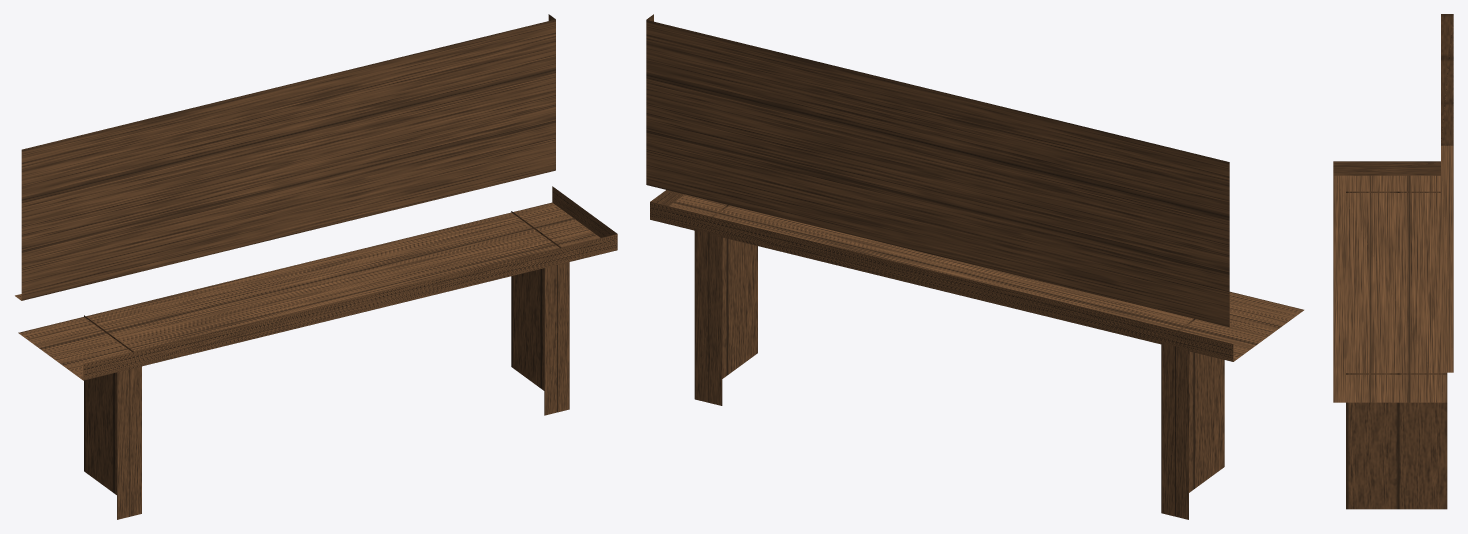
Rendered from prop_haven_bench_a_lod2.glb.
3 renders of one model, left to right at view 1: azimuth 30°, elevation 25°; view 2: azimuth 150°, elevation 25°; view 3: azimuth 270°, elevation 25°, orthographic. The views are drawn at different scales.
Parts seen in each view (by area): view 1: prop_haven_bench_a_lod2; view 2: prop_haven_bench_a_lod2; view 3: prop_haven_bench_a_lod2.
Boxes of the visible parts, box(x1,y1,x2,y2) form: prop_haven_bench_a_lod2: box(15, 14, 617, 519); prop_haven_bench_a_lod2: box(646, 14, 1303, 519); prop_haven_bench_a_lod2: box(1333, 14, 1453, 509).
Size of the model in its own units: 1.7 by 1.03 by 0.38.
1 material, 1 textured.
